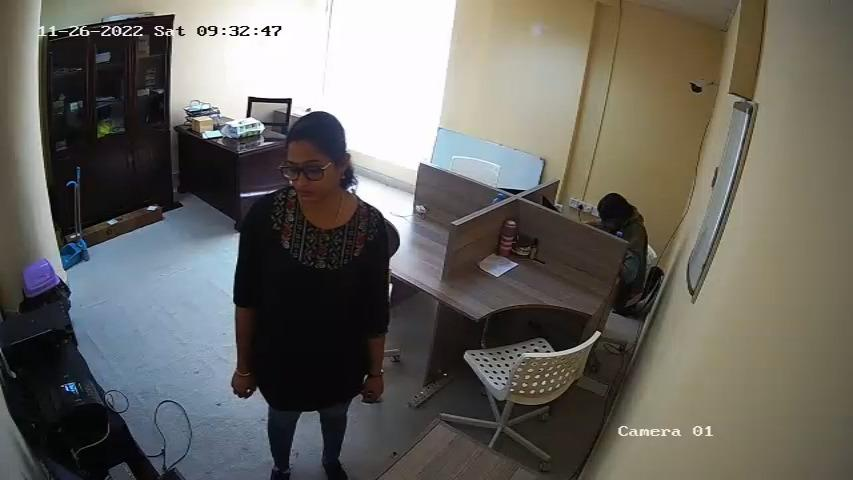no_apron: (270, 202, 368, 396)
